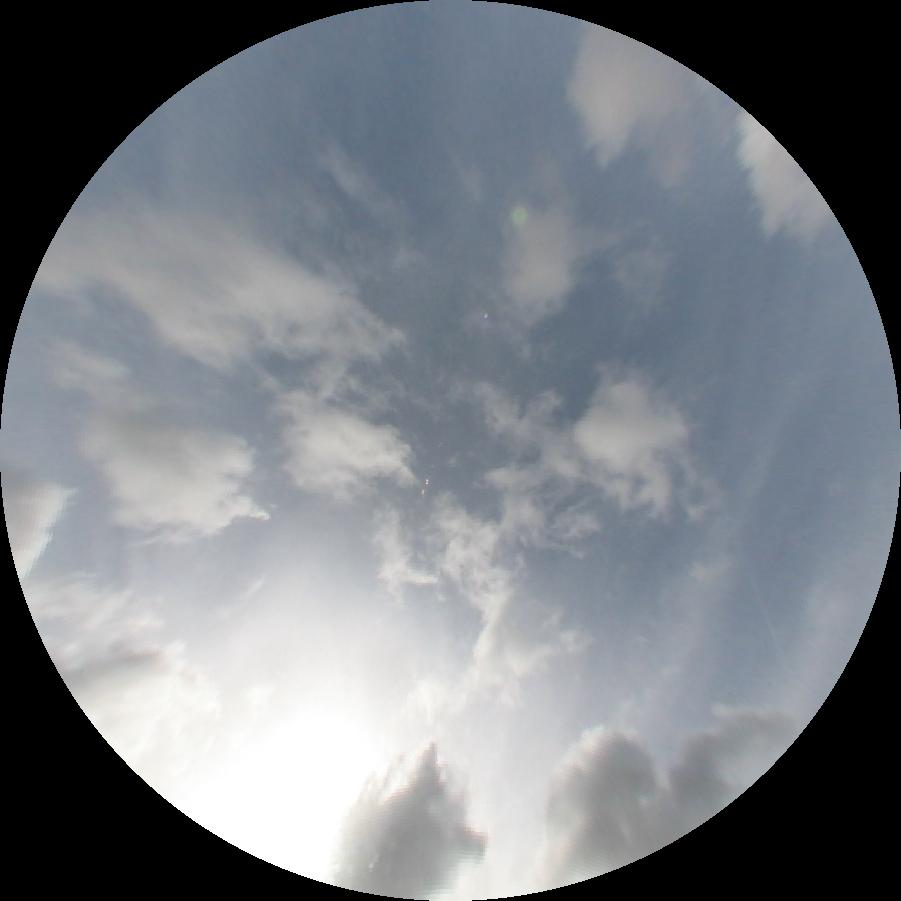contrail young: (745, 568, 801, 707)
sun: (147, 695, 374, 882)
